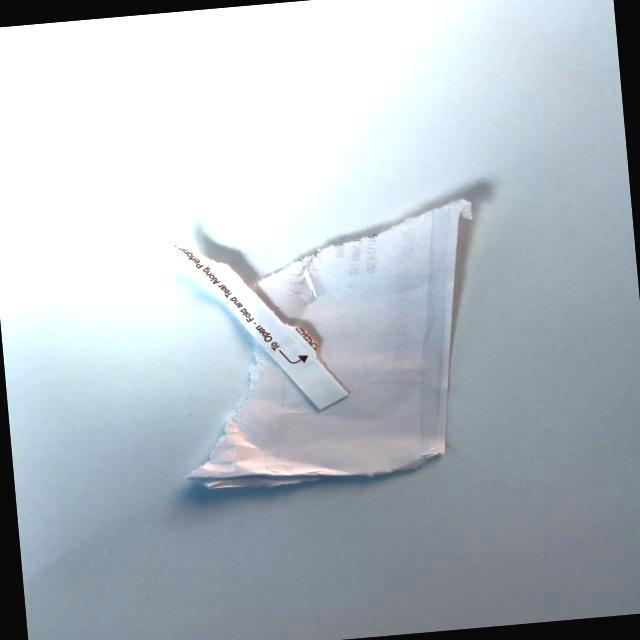paper: (143, 184, 516, 519)
